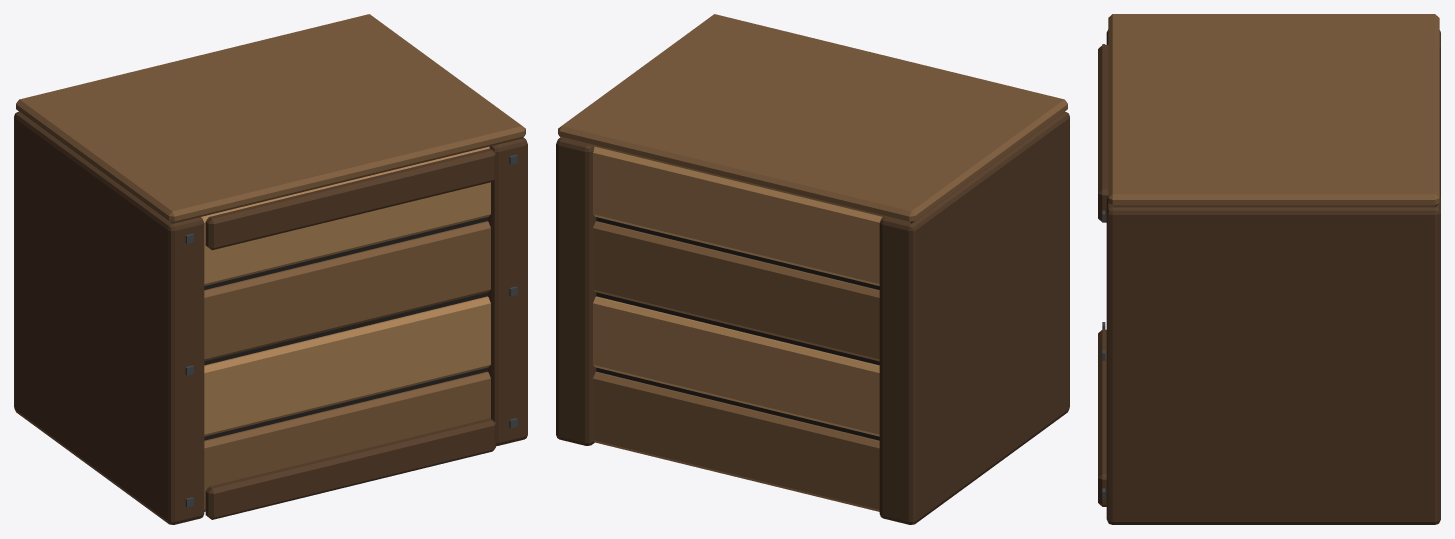
File: crate_wood_sredniy_idle.glb
The picture shows the model from 3 angles, left to right: view 1: azimuth 30°, elevation 25°; view 2: azimuth 150°, elevation 25°; view 3: azimuth 270°, elevation 25°; orthographic projection. The views are drawn at different scales.
Parts seen in each view (by area): view 1: crate_wood_sredniy_idle; view 2: crate_wood_sredniy_idle; view 3: crate_wood_sredniy_idle.
Boxes of the visible parts, <box> form: crate_wood_sredniy_idle: <box>14,14,527,524</box>; crate_wood_sredniy_idle: <box>556,14,1069,524</box>; crate_wood_sredniy_idle: <box>1098,14,1440,524</box>.
Size of the model in its own units: 0.6 by 0.5 by 0.47.
Materials: 1 (1 with a texture image).
